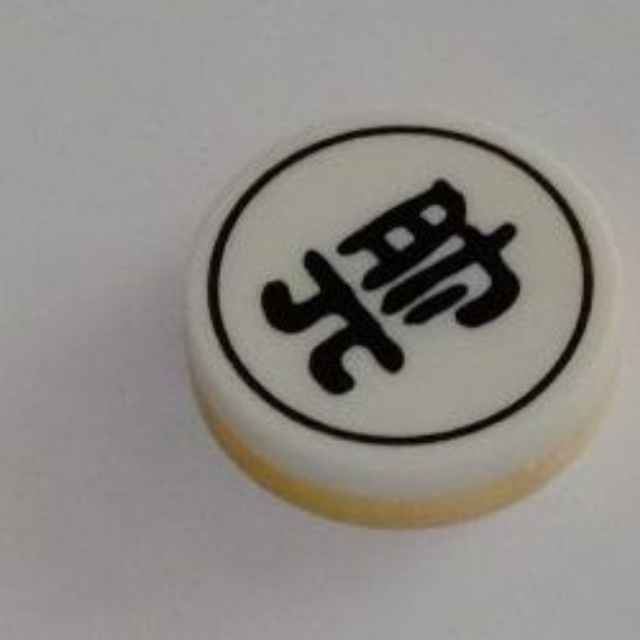black_tuong: (171, 97, 634, 539)
